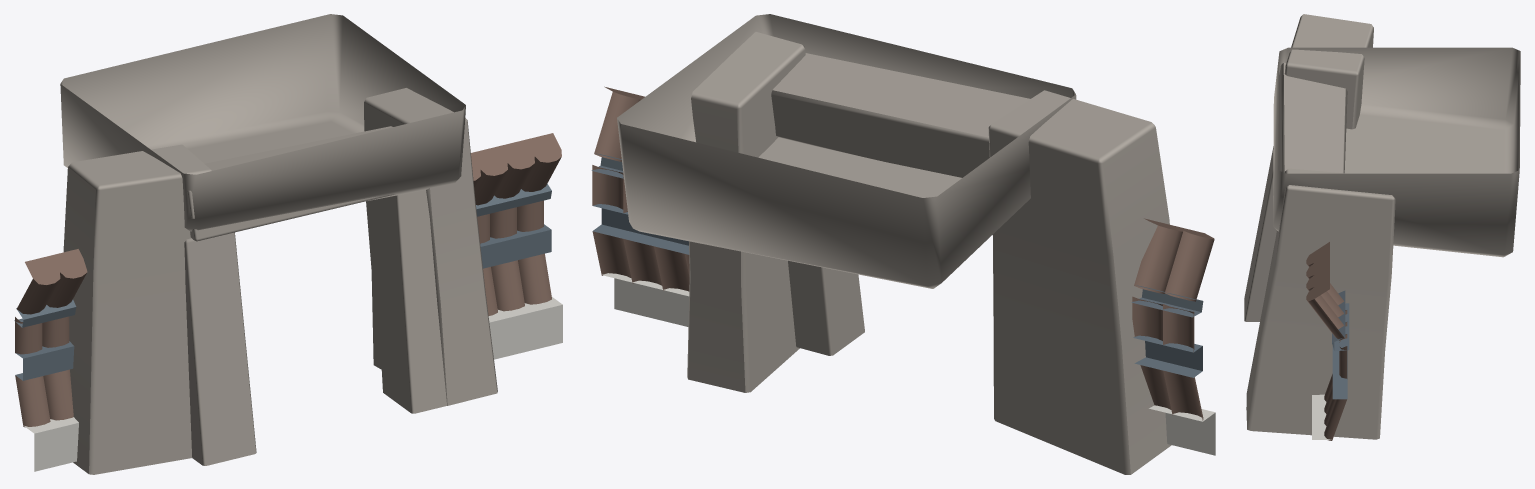
Rendered from MSH_Door_02.fbx.
3 renders of one model, left to right at view 1: azimuth 30°, elevation 25°; view 2: azimuth 150°, elevation 25°; view 3: azimuth 270°, elevation 25°, orthographic. The views are drawn at different scales.
Visible parts, largest first — view 1: MSH_Door_02; view 2: MSH_Door_02; view 3: MSH_Door_02.
Part boxes in pixels (box(x1,y1,x2,y2)): MSH_Door_02: box(14, 14, 562, 474); MSH_Door_02: box(591, 14, 1215, 474); MSH_Door_02: box(1244, 14, 1520, 440).
Bounding box in the file's own units: 979 × 505 × 485.
